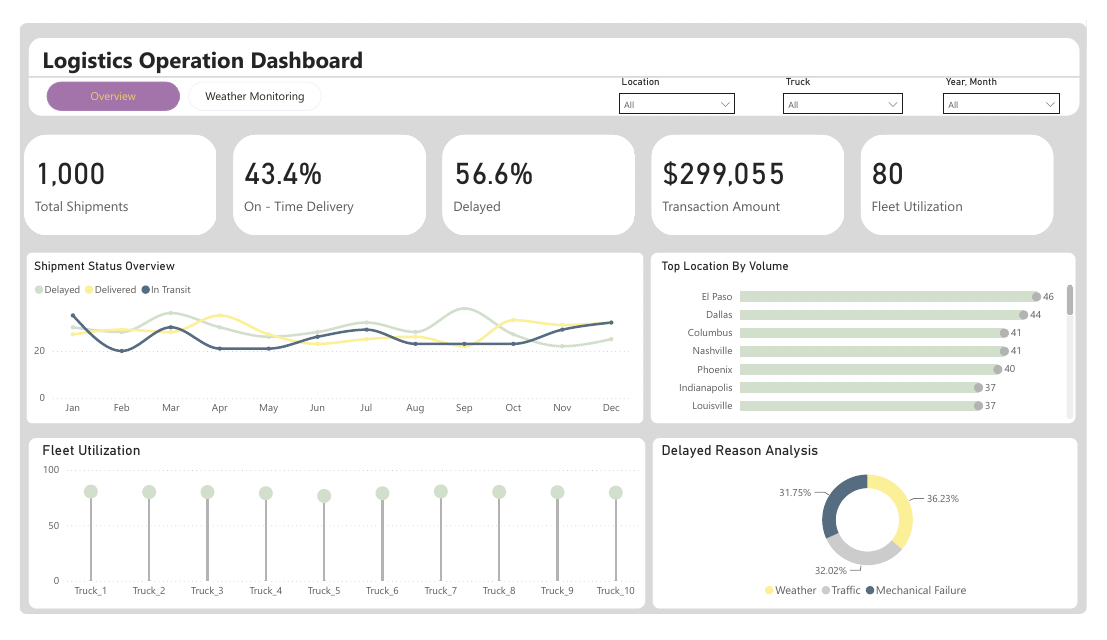

The page's visual inventory and layout, read from the dashboard file:
{"tool":"powerbi","page":{"name":"Overview","canvas":[1280,720],"ordinal":0},"visuals":[{"type":"cardVisual","fields":{"Data":["_Measures.Total Shipments","_Measures.On - Time %","_Measures.Delayed %","_Measures.Transaction Amount","_Measures.Avg Utilization"]},"box":[0,133,1247.4,130.3],"z":0},{"type":"slicer","fields":{"Values":["LogisticsData.City"]},"box":[709.2,63.3,159.2,66],"z":1000},{"type":"slicer","fields":{"Values":["LogisticsData.Asset_ID"]},"box":[906.4,63.3,162.8,66],"z":2000},{"type":"slicer","fields":{"Values":["Date.Year","Date.Month"]},"box":[1098.2,63.3,160.1,58.8],"z":3000},{"type":"lineChart","title":"Shipment Status Overview","fields":{"Category":["Date.Month"],"Y":["_Measures.Total Shipments"],"Series":["LogisticsData.Shipment_Status"]},"box":[11.8,287.7,726.4,196.3],"z":4000},{"type":"lineChart","title":"Fleet Utilization","fields":{"Category":["LogisticsData.Asset_ID"],"Y":["_Measures.Avg Utilization"]},"box":[21.7,506.6,726.4,196.3],"z":5000},{"type":"barChart","title":"Top Location By Volume","fields":{"Category":["LogisticsData.City"],"Y":["_Measures.Total Shipments"]},"box":[765.3,287.7,503.9,196.3],"z":6000},{"type":"donutChart","title":"Delayed Reason Analysis","fields":{"Category":["LogisticsData.Logistics Delay Reason"],"Y":["_Measures.Total Shipments"]},"box":[765,507,504,196],"z":7000},{"type":"textbox","box":[21.7,23.5,397.1,50.7],"z":8000},{"type":"pageNavigator","box":[31.7,74.2,330.2,35.3],"z":9000}]}

Visuals, with their boxes in screenshot pixels (x1, y1, x2, y2), scaled from the page's 1280x720 canvas onto the 1107x640 screenshot:
cardVisual - _Measures.Total Shipments x _Measures.On - Time %: box=[0, 118, 1079, 234]
slicer - LogisticsData.City: box=[613, 56, 751, 115]
slicer - LogisticsData.Asset_ID: box=[784, 56, 925, 115]
slicer - Date.Year x Date.Month: box=[950, 56, 1088, 109]
"Shipment Status Overview" lineChart: box=[10, 256, 638, 430]
"Fleet Utilization" lineChart: box=[19, 450, 647, 625]
"Top Location By Volume" barChart: box=[662, 256, 1098, 430]
"Delayed Reason Analysis" donutChart: box=[662, 451, 1097, 625]
textbox: box=[19, 21, 362, 66]
pageNavigator: box=[27, 66, 313, 97]
